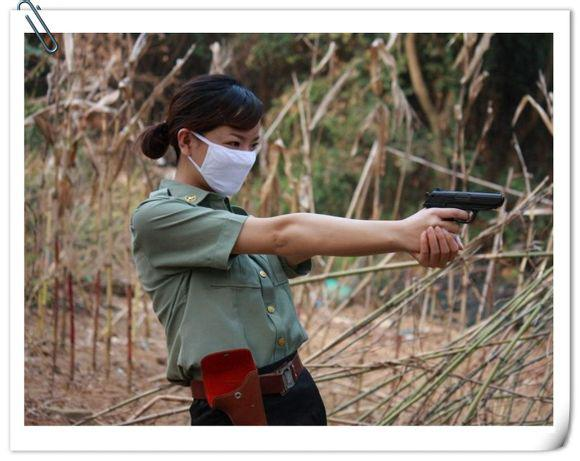OK: (194, 129, 261, 196)
